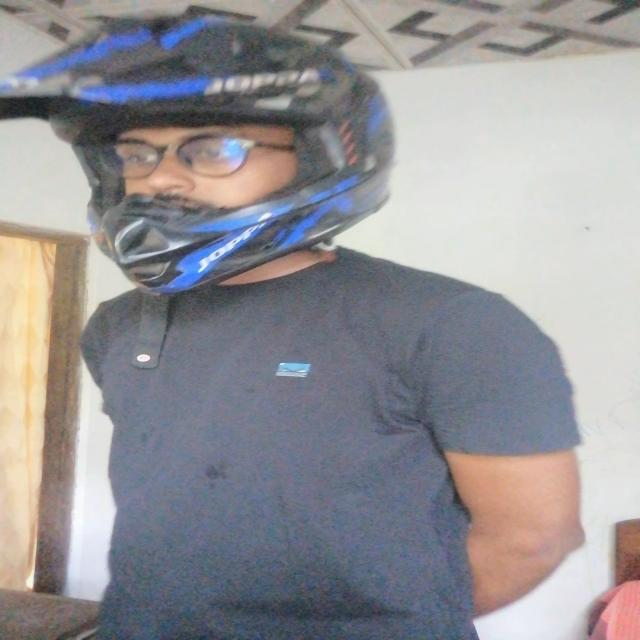Helmet_Wearer: (4, 6, 460, 308)
